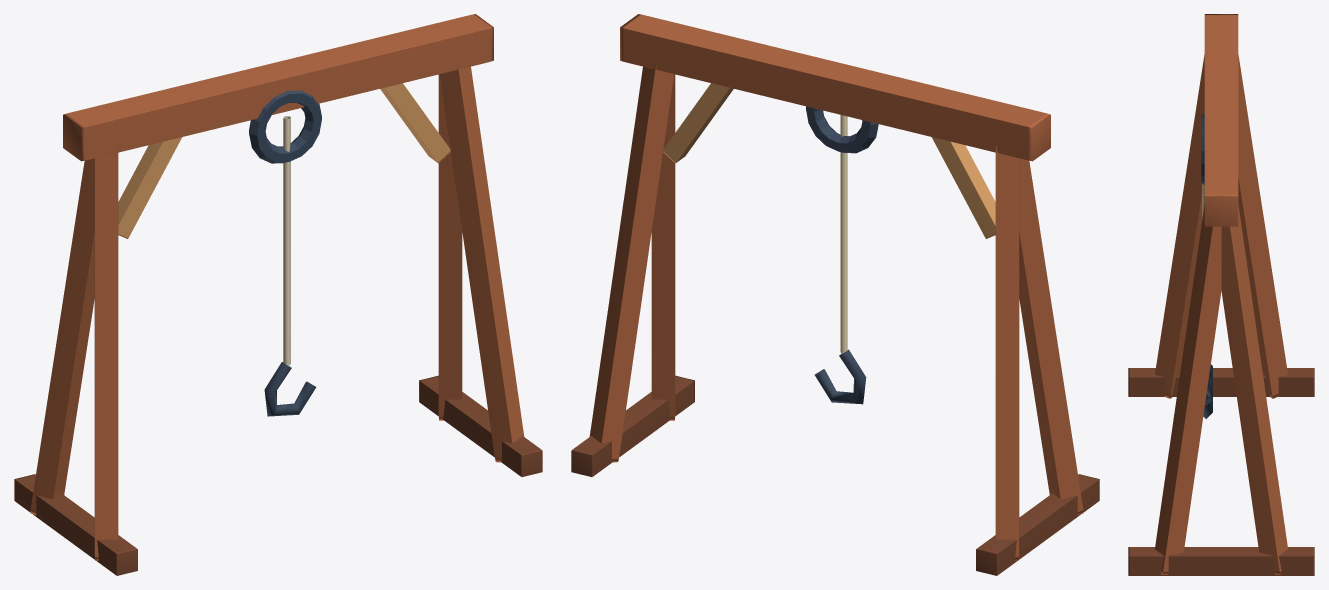
File: shipyard_gantry.glb
The picture shows the model from 3 angles, left to right: view 1: azimuth 30°, elevation 25°; view 2: azimuth 150°, elevation 25°; view 3: azimuth 270°, elevation 25°; orthographic projection. The views are drawn at different scales.
Parts seen in each view (by area): view 1: Main lifting beam, Gantry upright.002, Gantry upright, Gantry upright.001, Gantry upright.003, Gantry sill, Gantry sill.001, Pulley, Gantry knee, Gantry knee.001, Hoist rope, Lifting hook; view 2: Main lifting beam, Gantry upright.003, Gantry upright.001, Gantry upright, Gantry upright.002, Gantry sill, Gantry sill.001, Gantry knee, Gantry knee.001, Hoist rope, Pulley, Lifting hook; view 3: Gantry upright.002, Gantry upright.003, Main lifting beam, Gantry upright.001, Gantry upright, Gantry sill.001, Gantry sill, Lifting hook, Pulley.
Part boxes in pixels (x1,y1,x2,y2): Main lifting beam: (63,14,493,161); Gantry upright.002: (439,63,524,462); Gantry upright: (94,146,118,560); Gantry upright.001: (30,158,94,515); Gantry upright.003: (438,74,462,420); Gantry sill: (14,474,137,575); Gantry sill.001: (419,375,542,476); Pulley: (249,90,321,163); Gantry knee: (118,137,182,238); Gantry knee.001: (380,83,450,163); Hoist rope: (283,116,290,366); Lifting hook: (264,362,316,416); Main lifting beam: (620,14,1050,161); Gantry upright.003: (589,63,674,462); Gantry upright.001: (995,146,1019,560); Gantry upright: (1019,158,1083,515); Gantry upright.002: (651,74,675,420); Gantry sill: (976,474,1099,575); Gantry sill.001: (571,375,694,476); Gantry knee: (931,137,995,238); Gantry knee.001: (663,83,733,163); Hoist rope: (840,115,847,353); Pulley: (806,106,878,153); Lifting hook: (814,349,866,404); Gantry upright.002: (1155,205,1221,574); Gantry upright.003: (1221,205,1287,574); Main lifting beam: (1204,14,1238,226); Gantry upright.001: (1238,54,1287,398); Gantry upright: (1155,54,1204,398); Gantry sill.001: (1128,547,1314,575); Gantry sill: (1128,368,1314,396); Lifting hook: (1203,364,1212,418); Pulley: (1201,114,1204,184).
Bounding box in the file's own units: 5.33 × 4.92 × 2.2.
